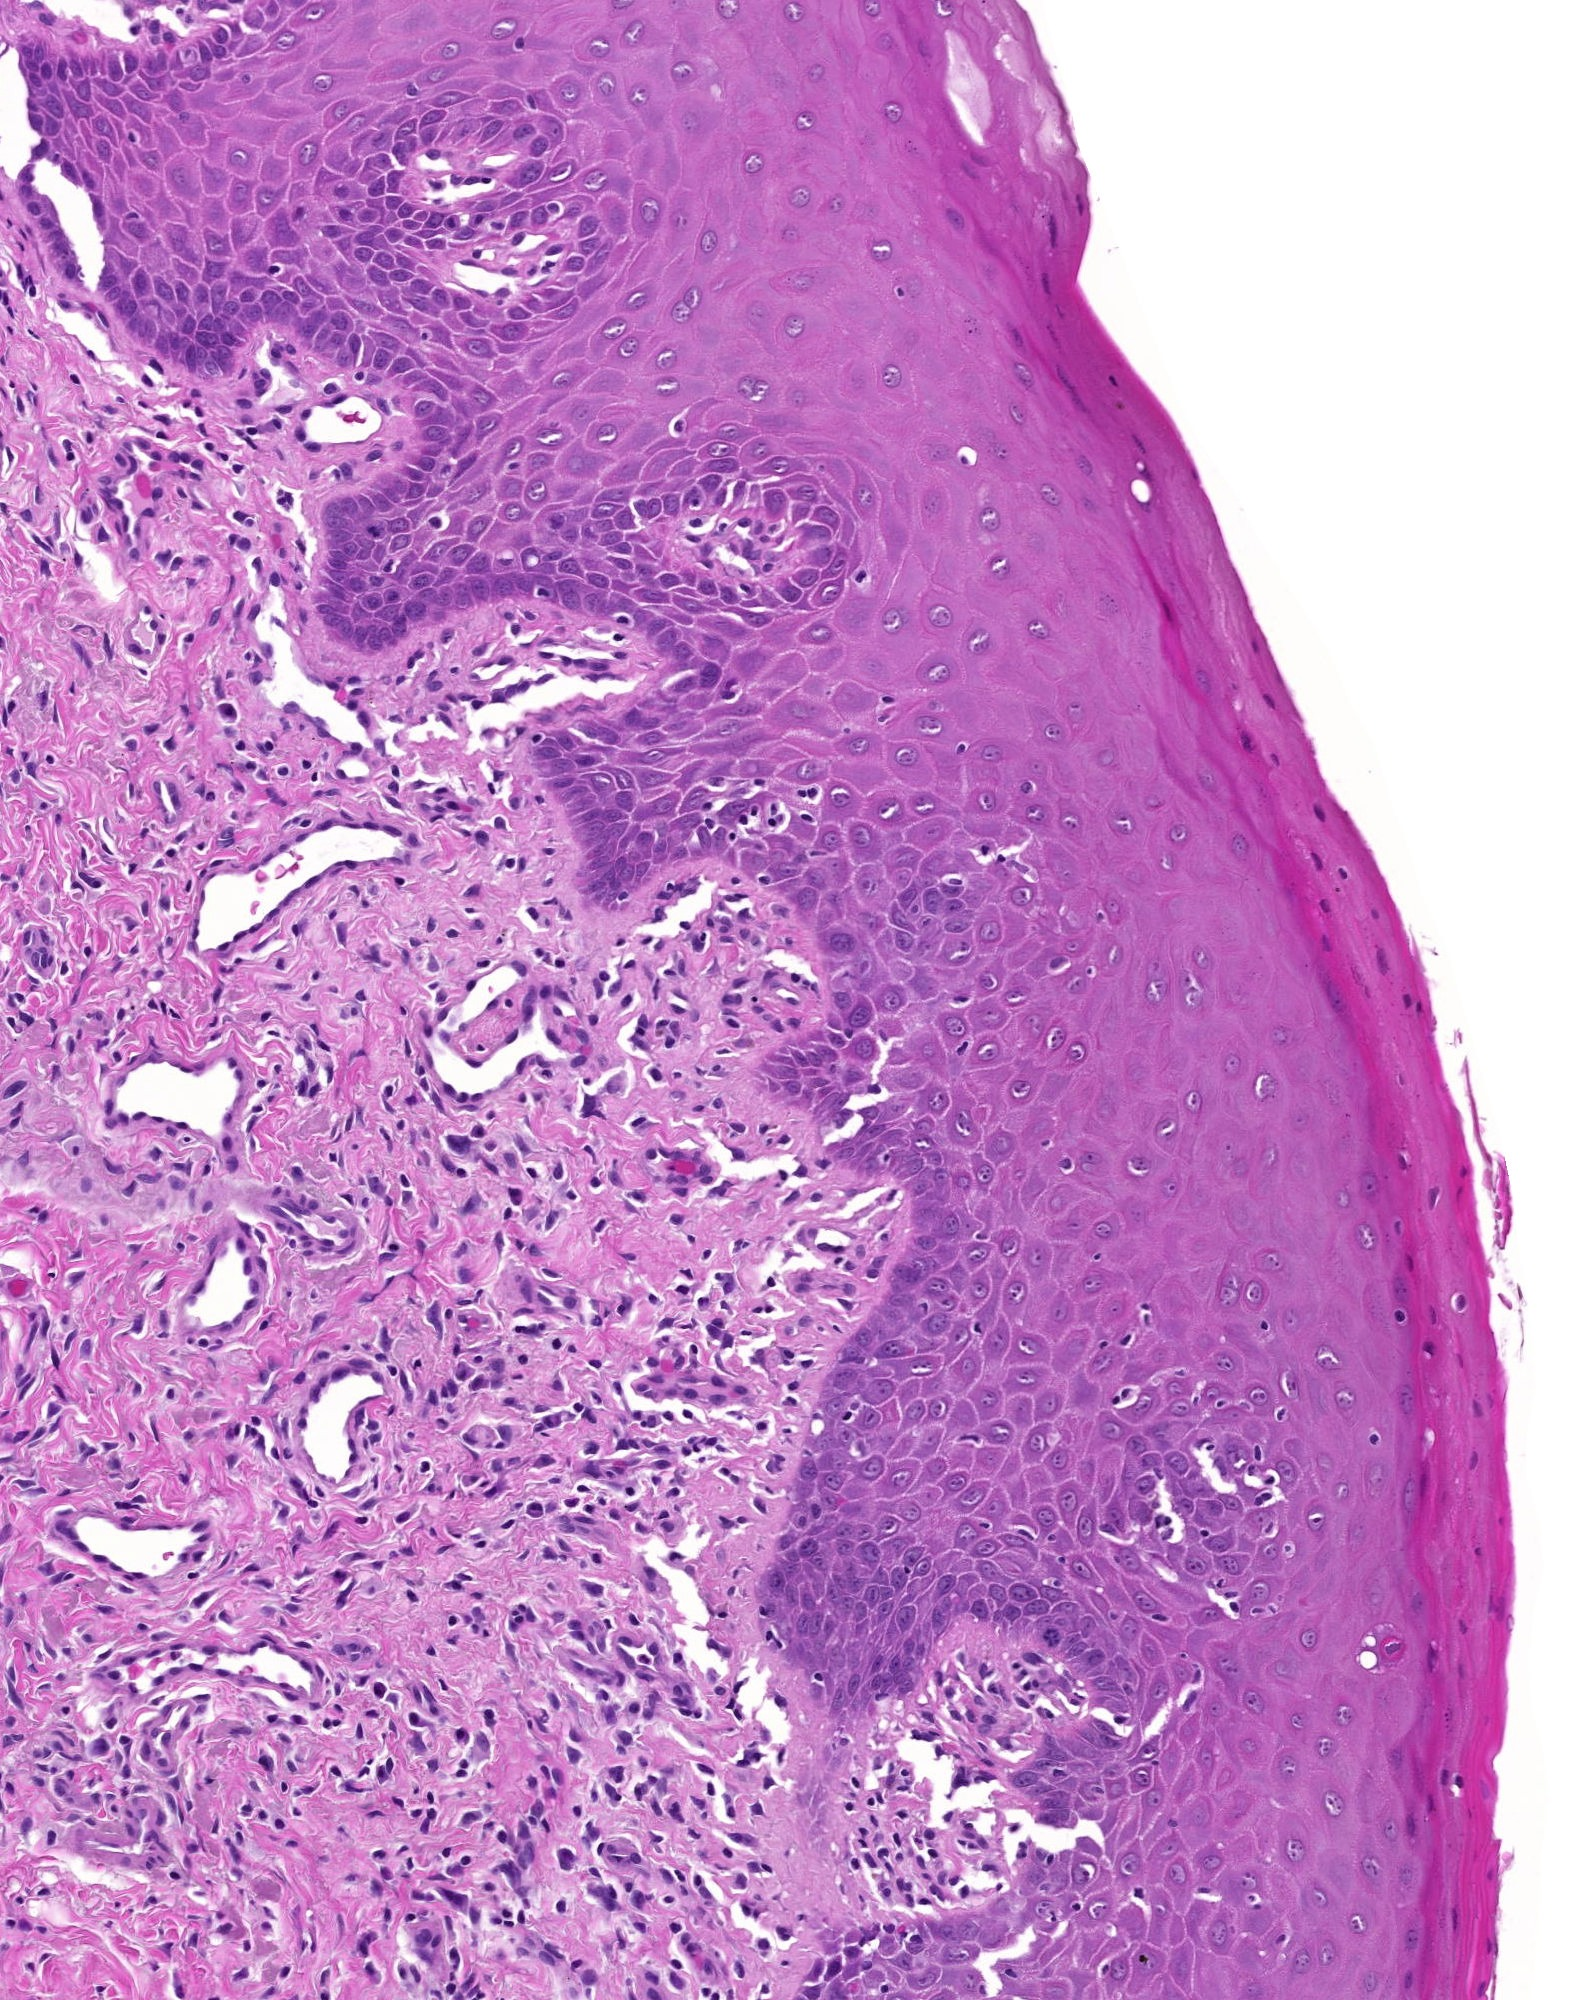epithelial: (553, 563, 588, 597), (404, 282, 437, 317), (398, 468, 432, 500), (37, 91, 71, 123), (325, 174, 357, 208), (372, 260, 406, 292), (402, 576, 435, 610), (368, 619, 402, 651), (321, 563, 354, 597), (514, 154, 547, 188), (828, 925, 862, 958), (617, 700, 649, 734), (537, 571, 571, 604), (782, 841, 816, 873), (626, 705, 661, 737), (946, 1102, 979, 1136), (842, 1331, 876, 1364), (920, 1602, 954, 1635), (534, 1937, 566, 1971), (876, 1659, 910, 1692), (771, 1554, 803, 1588), (860, 1576, 893, 1610), (1050, 364, 1083, 398), (1063, 386, 1095, 420), (1001, 1070, 1035, 1102), (993, 1956, 1027, 1989), (1092, 1511, 1126, 1544), (1143, 1599, 1177, 1631), (1014, 1584, 1047, 1619), (175, 339, 208, 372), (338, 328, 370, 360), (91, 261, 123, 294), (385, 349, 417, 381), (29, 54, 62, 86), (188, 321, 221, 354), (112, 291, 144, 323), (122, 214, 154, 247), (24, 131, 57, 164), (273, 281, 305, 313), (411, 448, 443, 481), (292, 312, 325, 344), (196, 252, 229, 284), (52, 153, 84, 185), (417, 203, 450, 235), (477, 110, 510, 143), (190, 37, 222, 70), (453, 445, 485, 477), (58, 52, 91, 84), (406, 269, 438, 302), (54, 253, 86, 286), (172, 308, 204, 341), (334, 196, 367, 229), (377, 218, 409, 250), (362, 260, 394, 292), (424, 279, 456, 312), (16, 91, 49, 123), (268, 216, 300, 248), (411, 115, 443, 148), (448, 419, 480, 451), (424, 401, 456, 433), (240, 242, 273, 274), (128, 313, 161, 346), (419, 417, 451, 450), (300, 300, 333, 333), (222, 219, 255, 252), (105, 50, 138, 83), (320, 323, 352, 356), (200, 227, 232, 260), (31, 84, 63, 117), (179, 315, 211, 347), (29, 208, 62, 240), (398, 594, 430, 627), (463, 549, 495, 581), (357, 620, 390, 653), (430, 558, 463, 591), (445, 536, 477, 568), (321, 576, 354, 609), (328, 537, 360, 570), (329, 612, 362, 644), (318, 602, 351, 635), (339, 534, 372, 567), (323, 518, 355, 550), (390, 589, 422, 622), (8, 1141, 41, 1174), (505, 115, 537, 148), (938, 201, 971, 234), (557, 247, 589, 279), (709, 448, 742, 481), (792, 477, 824, 510), (516, 83, 549, 115), (500, 203, 532, 235), (500, 305, 532, 338), (756, 479, 789, 511), (623, 282, 656, 315), (789, 102, 821, 135), (537, 112, 570, 144), (695, 656, 727, 688), (570, 744, 602, 776), (549, 726, 581, 758), (652, 563, 685, 596), (669, 667, 701, 700), (531, 735, 563, 768), (527, 575, 560, 607), (547, 766, 579, 799), (711, 675, 743, 708), (552, 550, 584, 583), (575, 800, 607, 833), (885, 919, 917, 951), (690, 820, 722, 852), (808, 537, 841, 570), (628, 554, 661, 586), (699, 765, 732, 797), (696, 625, 729, 657), (636, 580, 669, 612), (558, 747, 591, 779), (524, 731, 557, 763), (703, 820, 735, 852), (717, 795, 750, 828), (575, 714, 607, 747), (849, 867, 881, 899), (820, 922, 852, 955), (644, 831, 677, 864), (797, 864, 829, 896), (631, 761, 664, 794), (553, 516, 586, 549), (672, 805, 704, 838), (607, 589, 639, 622), (602, 529, 635, 562), (769, 856, 802, 888), (644, 570, 677, 602), (836, 1341, 868, 1373), (834, 1060, 867, 1093), (907, 1226, 940, 1258), (776, 1071, 808, 1104), (742, 1341, 774, 1373), (917, 1308, 949, 1341), (972, 1037, 1005, 1070), (964, 1268, 996, 1300), (919, 1391, 951, 1424), (839, 1003, 872, 1036), (803, 1067, 836, 1099), (962, 1226, 995, 1258), (962, 1593, 995, 1625), (818, 1951, 850, 1984), (855, 1536, 888, 1568), (894, 1542, 927, 1575), (849, 1920, 881, 1953), (872, 1506, 904, 1539), (888, 1945, 920, 1977), (828, 1529, 860, 1562), (891, 1550, 923, 1583), (969, 1508, 1001, 1541), (1029, 266, 1061, 299), (1097, 364, 1130, 396), (1121, 425, 1154, 458), (1053, 372, 1086, 404), (1230, 726, 1263, 758), (1152, 596, 1185, 628), (1040, 945, 1073, 977), (1019, 797, 1052, 830), (1240, 628, 1272, 661), (1303, 795, 1336, 828), (1009, 771, 1042, 804), (1105, 804, 1138, 836), (1037, 714, 1070, 747), (1019, 612, 1052, 644), (1394, 1245, 1427, 1278), (1277, 1367, 1310, 1399), (1073, 1141, 1105, 1174), (1128, 1471, 1160, 1503), (1386, 1144, 1418, 1177), (1141, 1416, 1173, 1448), (1204, 1450, 1237, 1482), (1407, 1463, 1440, 1495), (1389, 1380, 1422, 1412), (1060, 1037, 1092, 1070), (1216, 1433, 1248, 1466), (1131, 1445, 1164, 1477), (1159, 1448, 1191, 1481), (1461, 1391, 1493, 1424), (1264, 1451, 1297, 1484), (1394, 1808, 1427, 1841), (1078, 1641, 1110, 1674), (1032, 1802, 1065, 1834), (1126, 1942, 1159, 1974), (1008, 1761, 1040, 1794), (1415, 1787, 1448, 1820), (1006, 1578, 1039, 1610), (1131, 1732, 1164, 1765), (1042, 1756, 1074, 1789), (1177, 1549, 1209, 1581), (1066, 1859, 1099, 1891), (1034, 1731, 1066, 1763), (1198, 1490, 1230, 1523), (1027, 1505, 1060, 1537), (1037, 1787, 1070, 1820), (1128, 1497, 1160, 1529), (1190, 1518, 1222, 1550), (1238, 1683, 1271, 1716), (1204, 1528, 1237, 1560), (1376, 1631, 1409, 1664), (1001, 1588, 1034, 1620), (1040, 1740, 1073, 1773), (1087, 1714, 1120, 1747), (1018, 1755, 1050, 1787), (1444, 1654, 1477, 1687), (1037, 1573, 1070, 1606), (1212, 1654, 1245, 1687), (1092, 1805, 1125, 1838), (36, 110, 70, 141), (368, 244, 402, 274), (18, 71, 49, 106), (396, 71, 427, 106), (93, 71, 123, 106), (450, 580, 484, 610), (776, 576, 807, 610), (893, 878, 923, 912), (790, 562, 824, 593), (604, 877, 635, 911), (687, 810, 717, 844), (545, 748, 579, 779), (644, 619, 678, 649), (875, 795, 906, 830), (893, 1260, 927, 1291), (846, 997, 880, 1028), (820, 1023, 854, 1054), (867, 1372, 901, 1403), (777, 1050, 808, 1084), (854, 1141, 885, 1175), (1061, 1554, 1092, 1588), (1009, 1596, 1044, 1627), (1156, 1805, 1186, 1839), (125, 266, 156, 299), (19, 104, 50, 136), (325, 305, 355, 338), (213, 321, 243, 354), (360, 174, 393, 205), (18, 37, 50, 68), (115, 45, 146, 78), (157, 326, 190, 357), (166, 274, 196, 307), (204, 21, 235, 54), (253, 281, 284, 313), (204, 346, 235, 378), (187, 279, 217, 312), (19, 58, 52, 89), (443, 286, 476, 317), (99, 54, 130, 86), (385, 135, 415, 167), (230, 279, 261, 312), (349, 222, 381, 253), (385, 258, 415, 291), (415, 102, 446, 135), (140, 58, 170, 91), (24, 45, 57, 76), (316, 214, 347, 247), (239, 295, 269, 328), (420, 373, 453, 404), (140, 49, 172, 80), (351, 200, 383, 231), (377, 187, 409, 218), (377, 164, 409, 195), (63, 91, 94, 123), (16, 49, 49, 80), (146, 273, 179, 304), (45, 231, 76, 263), (193, 307, 224, 339), (214, 292, 247, 323), (469, 411, 501, 442), (68, 73, 99, 106), (110, 248, 141, 281), (386, 247, 419, 278), (67, 60, 97, 93), (206, 289, 237, 321), (135, 143, 166, 175), (162, 226, 195, 256), (406, 205, 438, 235), (196, 265, 227, 297), (203, 274, 234, 307), (182, 330, 213, 362), (467, 380, 498, 412), (222, 263, 255, 294), (359, 515, 390, 547), (357, 586, 388, 619), (377, 580, 409, 610), (404, 565, 435, 597), (321, 545, 354, 576), (383, 606, 415, 636), (342, 619, 375, 649), (339, 570, 372, 601), (463, 571, 495, 602), (312, 596, 344, 627), (380, 563, 411, 596), (368, 586, 399, 619), (459, 515, 492, 545), (380, 615, 411, 648), (365, 541, 398, 571), (281, 1193, 312, 1226), (523, 130, 553, 162), (695, 466, 725, 498), (571, 209, 604, 240), (508, 162, 540, 193), (678, 479, 709, 511), (722, 472, 755, 503), (524, 198, 557, 229), (735, 370, 768, 401), (549, 289, 581, 320), (956, 148, 988, 179), (600, 203, 633, 234), (907, 32, 938, 65), (690, 571, 722, 602), (540, 503, 571, 536), (609, 502, 639, 534), (641, 609, 672, 641), (583, 563, 613, 596), (609, 782, 639, 815), (605, 539, 636, 571), (824, 784, 855, 817), (667, 635, 698, 667), (742, 602, 773, 635), (579, 870, 610, 903), (505, 567, 537, 597), (914, 881, 946, 912), (553, 580, 586, 610), (936, 890, 967, 922), (971, 964, 1001, 997), (536, 541, 568, 571), (579, 586, 610, 619), (889, 744, 922, 774), (549, 570, 579, 602), (687, 666, 719, 696), (597, 865, 628, 898), (842, 821, 875, 852), (839, 727, 872, 758), (941, 911, 974, 942), (652, 623, 685, 654), (820, 883, 850, 916), (583, 769, 613, 802), (511, 536, 544, 567), (811, 498, 842, 531), (813, 825, 846, 856), (925, 877, 958, 907), (792, 1455, 824, 1485), (828, 1099, 859, 1131), (847, 1321, 878, 1354), (786, 1042, 816, 1075), (872, 1334, 904, 1365), (828, 1360, 860, 1391), (919, 1083, 949, 1115), (761, 1445, 792, 1477), (789, 1266, 820, 1299), (933, 1209, 966, 1240), (969, 1157, 1001, 1188), (824, 1084, 855, 1117), (854, 1450, 885, 1482), (940, 1256, 972, 1287), (906, 1119, 938, 1149), (829, 1133, 862, 1164), (961, 1237, 992, 1269), (923, 1157, 954, 1190), (910, 1196, 943, 1227), (773, 1062, 805, 1093), (901, 1394, 933, 1425), (790, 1532, 823, 1563), (863, 1667, 894, 1700), (763, 1562, 794, 1594), (901, 1924, 933, 1955), (798, 1494, 831, 1524), (932, 1567, 962, 1599), (750, 1594, 781, 1627), (860, 1648, 893, 1679), (889, 1601, 920, 1633), (837, 1666, 868, 1698), (802, 1661, 834, 1692), (497, 1854, 527, 1886), (769, 1526, 802, 1557), (927, 1916, 959, 1946), (828, 1515, 859, 1547), (790, 1584, 823, 1615), (811, 1610, 842, 1643), (821, 1685, 854, 1716), (837, 1565, 868, 1597), (889, 1669, 920, 1701), (776, 1545, 807, 1578), (781, 1537, 811, 1570), (802, 1544, 833, 1576), (964, 1536, 996, 1567), (844, 1596, 876, 1627), (1035, 214, 1068, 245), (1130, 458, 1162, 489), (1065, 188, 1095, 221), (1000, 320, 1032, 351), (1177, 459, 1207, 492), (1060, 378, 1091, 411), (1070, 448, 1100, 481), (1100, 378, 1131, 411), (1162, 817, 1194, 847), (1308, 890, 1341, 920), (1188, 662, 1219, 695), (1053, 808, 1086, 839), (1383, 1300, 1415, 1331), (1414, 1331, 1444, 1364), (1118, 1429, 1151, 1459), (1125, 1146, 1156, 1179), (1383, 1273, 1415, 1304), (1417, 1179, 1448, 1211), (1209, 1347, 1242, 1378), (1091, 1214, 1121, 1247), (1190, 1425, 1220, 1458), (1068, 1375, 1099, 1407), (1243, 1380, 1274, 1412), (1040, 1023, 1073, 1054), (1092, 1414, 1125, 1445), (1040, 1443, 1073, 1474), (1034, 1622, 1066, 1653), (1415, 1640, 1448, 1670), (995, 1596, 1027, 1627), (1396, 1922, 1427, 1955), (1381, 1740, 1412, 1773), (1091, 1724, 1123, 1755), (1126, 1763, 1157, 1795), (1392, 1964, 1423, 1997), (1401, 1588, 1433, 1619), (1438, 1901, 1470, 1932), (1193, 1843, 1225, 1873), (1092, 1955, 1125, 1985), (1048, 1666, 1079, 1698), (1099, 1502, 1130, 1534), (1194, 1597, 1227, 1628), (1302, 1505, 1332, 1537), (1108, 1541, 1141, 1571), (1173, 1683, 1206, 1714), (1044, 1794, 1074, 1826), (1035, 1747, 1066, 1779), (1006, 1519, 1039, 1550), (1143, 1672, 1173, 1705), (1019, 1860, 1052, 1891), (1264, 1922, 1297, 1953), (1169, 1489, 1199, 1521), (1212, 1549, 1245, 1580), (1068, 1828, 1100, 1859), (1071, 1609, 1104, 1640), (1326, 1700, 1358, 1731), (1281, 1705, 1313, 1735), (1091, 1667, 1121, 1700), (1354, 1852, 1384, 1885), (1026, 1773, 1057, 1805), (1105, 1649, 1138, 1680), (1112, 1674, 1143, 1706), (45, 55, 76, 86), (365, 343, 396, 373), (390, 195, 420, 226), (407, 393, 438, 424), (364, 123, 394, 154), (88, 135, 118, 166), (346, 239, 377, 269), (123, 308, 154, 339), (203, 32, 234, 63), (282, 196, 313, 227), (420, 226, 451, 256), (149, 330, 180, 360), (367, 144, 398, 175), (467, 333, 498, 364), (213, 821, 243, 852), (383, 510, 414, 541), (758, 450, 789, 481), (628, 821, 659, 852), (936, 873, 967, 904), (712, 580, 743, 610), (798, 515, 829, 545), (789, 881, 820, 912), (906, 786, 936, 817), (734, 644, 764, 675), (596, 721, 626, 752), (974, 786, 1005, 817), (605, 847, 636, 878), (868, 791, 899, 821), (596, 800, 626, 831), (904, 968, 935, 998), (698, 795, 729, 826), (651, 791, 682, 821), (854, 1114, 885, 1144), (854, 1097, 885, 1128), (854, 1403, 885, 1433), (803, 1041, 834, 1071), (938, 1468, 969, 1498), (849, 1032, 880, 1063), (876, 1120, 907, 1151), (815, 1463, 846, 1494), (974, 1381, 1005, 1412), (922, 1269, 953, 1300), (880, 1649, 910, 1680), (896, 1631, 927, 1662), (885, 1562, 915, 1593), (850, 1950, 881, 1981), (789, 1609, 820, 1640), (1104, 390, 1134, 420), (1009, 364, 1040, 394), (1367, 945, 1397, 976), (1310, 929, 1341, 959), (1224, 828, 1255, 859), (1253, 683, 1284, 714), (1302, 846, 1332, 877), (1005, 878, 1035, 909), (1315, 972, 1345, 1003), (1000, 976, 1031, 1006), (1354, 1170, 1384, 1201), (1417, 1299, 1448, 1330), (1013, 1326, 1044, 1357), (1310, 1732, 1341, 1763), (1060, 1635, 1091, 1666), (1070, 1506, 1100, 1537), (1389, 1859, 1420, 1890), (1293, 1622, 1324, 1653), (1125, 1584, 1156, 1615), (1134, 1636, 1165, 1667)
fibroblast and endothelial: (425, 792, 459, 826), (50, 1308, 84, 1343), (709, 1455, 743, 1489), (868, 1873, 902, 1907), (140, 347, 172, 381), (227, 386, 261, 419), (467, 162, 501, 195), (417, 136, 450, 170), (41, 442, 75, 474), (247, 359, 281, 391), (169, 477, 201, 511), (226, 526, 260, 558), (318, 667, 352, 700), (339, 731, 372, 765), (399, 641, 432, 675), (115, 851, 148, 885), (28, 933, 62, 966), (428, 703, 463, 735), (454, 875, 489, 907), (89, 628, 123, 661), (170, 869, 203, 903), (114, 911, 148, 943), (362, 701, 396, 734), (222, 1414, 255, 1448), (372, 1075, 404, 1109), (432, 1071, 464, 1106), (438, 1333, 472, 1365), (36, 1391, 68, 1425), (388, 1166, 420, 1200), (71, 1435, 105, 1468), (54, 1323, 88, 1356), (153, 1377, 185, 1411), (372, 1183, 404, 1218), (291, 1058, 323, 1093), (297, 1378, 331, 1411), (217, 1424, 250, 1458), (446, 1258, 480, 1291), (373, 1393, 407, 1425), (260, 1195, 294, 1227), (39, 1307, 73, 1339), (454, 1154, 489, 1187), (467, 1122, 501, 1154), (183, 1583, 217, 1615), (394, 1956, 428, 1989), (394, 1580, 427, 1614), (248, 1628, 282, 1661), (428, 1834, 463, 1867), (432, 1906, 466, 1938), (461, 1899, 495, 1932), (351, 1920, 383, 1955), (159, 1631, 192, 1666), (159, 1765, 192, 1799), (299, 1653, 333, 1685), (183, 1680, 217, 1713), (346, 1633, 380, 1666), (396, 1714, 430, 1747), (140, 1674, 172, 1708), (446, 1899, 480, 1932), (435, 1843, 467, 1877), (276, 1589, 308, 1623), (115, 1731, 149, 1763), (157, 1795, 192, 1828), (234, 1778, 268, 1810), (514, 253, 549, 286), (844, 558, 876, 593), (669, 907, 703, 940), (529, 661, 562, 695), (789, 786, 821, 820), (537, 1156, 571, 1188), (786, 1180, 820, 1213), (695, 1425, 729, 1458), (706, 1317, 738, 1351), (625, 1006, 657, 1041), (571, 1133, 605, 1166), (773, 1006, 805, 1041), (630, 1028, 664, 1060), (722, 1227, 756, 1260), (670, 1310, 704, 1343), (626, 1425, 659, 1459), (531, 1268, 565, 1300), (524, 1411, 557, 1445), (529, 1286, 562, 1320), (586, 1458, 620, 1490), (540, 1284, 575, 1317), (648, 1323, 682, 1356), (635, 1961, 669, 1994), (639, 1791, 672, 1825), (505, 1601, 537, 1635), (510, 1812, 542, 1846), (549, 1841, 581, 1875), (657, 1859, 691, 1891), (661, 1641, 695, 1674), (839, 1765, 872, 1799), (967, 1654, 1001, 1687), (651, 1864, 683, 1898), (724, 1951, 756, 1985), (639, 1823, 674, 1856), (652, 1636, 687, 1669), (568, 1619, 600, 1653), (868, 1864, 901, 1898), (639, 1641, 674, 1674), (674, 1948, 708, 1981), (536, 1490, 570, 1523), (235, 427, 268, 459), (54, 438, 86, 471), (284, 417, 316, 450), (235, 414, 268, 446), (13, 268, 45, 300), (297, 430, 329, 463), (268, 391, 300, 424), (73, 420, 105, 453), (289, 398, 321, 430), (58, 362, 91, 394), (140, 477, 172, 510), (222, 451, 255, 484), (131, 433, 164, 466), (357, 440, 390, 472), (420, 169, 453, 201), (269, 479, 302, 511), (29, 2, 62, 34), (71, 162, 104, 195), (328, 456, 360, 489), (164, 471, 196, 503), (50, 429, 83, 461), (104, 443, 136, 476), (213, 15, 245, 47), (156, 476, 188, 508), (291, 425, 323, 458), (227, 419, 260, 451), (11, 381, 44, 414), (11, 170, 44, 203), (333, 847, 365, 880), (354, 808, 386, 841), (347, 701, 380, 734), (338, 666, 370, 698), (281, 912, 313, 945), (334, 688, 367, 721), (425, 774, 458, 807), (15, 752, 47, 784), (383, 865, 415, 898), (190, 778, 222, 810), (28, 544, 60, 576), (148, 886, 180, 919), (377, 774, 409, 807), (419, 505, 451, 537), (32, 742, 65, 774), (240, 661, 273, 693), (153, 727, 185, 760), (70, 498, 102, 531), (377, 786, 409, 818), (120, 631, 153, 664), (222, 769, 255, 802), (364, 727, 396, 760), (60, 869, 93, 901), (208, 930, 240, 963), (201, 976, 234, 1008), (67, 849, 99, 881), (461, 907, 493, 940), (430, 619, 463, 651), (185, 544, 217, 576), (258, 779, 291, 812), (325, 917, 357, 950), (414, 909, 446, 942), (23, 740, 55, 773), (10, 740, 42, 773), (420, 800, 453, 833), (239, 641, 271, 674), (128, 891, 161, 924), (310, 776, 342, 808), (29, 945, 62, 977), (130, 539, 162, 571), (201, 672, 234, 705), (386, 769, 419, 802), (164, 820, 196, 852), (325, 805, 357, 838), (19, 919, 52, 951), (198, 601, 230, 633), (266, 890, 299, 922), (299, 805, 331, 838), (424, 976, 456, 1008), (472, 714, 505, 747), (412, 771, 445, 804), (42, 800, 75, 833), (390, 938, 422, 971), (334, 807, 367, 839), (16, 964, 49, 997), (68, 948, 101, 981), (300, 771, 333, 804), (274, 828, 307, 860), (323, 854, 355, 886), (89, 833, 122, 865), (10, 1003, 42, 1036), (438, 1153, 471, 1185), (122, 1099, 154, 1131), (39, 1343, 71, 1375), (292, 1073, 325, 1106), (321, 1357, 354, 1390), (463, 1365, 495, 1398), (23, 1417, 55, 1450), (474, 1151, 506, 1183), (245, 1247, 278, 1279), (248, 998, 281, 1031), (105, 1102, 138, 1135), (24, 1198, 57, 1231), (266, 1437, 299, 1469), (232, 1213, 265, 1245), (313, 1055, 346, 1088), (286, 1406, 318, 1438), (355, 1420, 388, 1453), (140, 1136, 172, 1169), (368, 1323, 401, 1356), (93, 1430, 125, 1463), (230, 1248, 263, 1281), (420, 1305, 453, 1338), (360, 1360, 393, 1393), (182, 1271, 214, 1304), (240, 1404, 273, 1437), (281, 1156, 313, 1188), (97, 1446, 130, 1479), (316, 1141, 349, 1174), (294, 1049, 326, 1081), (122, 1307, 154, 1339), (390, 1180, 422, 1213), (247, 1359, 279, 1391), (407, 1067, 440, 1099), (294, 1188, 326, 1221), (334, 1104, 367, 1136), (105, 997, 138, 1029), (459, 1080, 492, 1112), (55, 1028, 88, 1060), (391, 1032, 424, 1065), (372, 1253, 404, 1286), (430, 1398, 463, 1430), (37, 1409, 70, 1442), (39, 1055, 71, 1088), (300, 1227, 333, 1260), (172, 1419, 204, 1451), (58, 1133, 91, 1166), (477, 1365, 510, 1398), (120, 1372, 153, 1404), (60, 1237, 93, 1269), (370, 1239, 402, 1271), (422, 1068, 454, 1101), (130, 1161, 162, 1193), (70, 1328, 102, 1360), (346, 1390, 378, 1422), (342, 1037, 375, 1070), (433, 1385, 466, 1417), (260, 1174, 292, 1206), (8, 1468, 41, 1500), (437, 1122, 469, 1154), (273, 1211, 305, 1244), (469, 1143, 501, 1175), (286, 1067, 318, 1099), (136, 1041, 169, 1073), (313, 1201, 346, 1234), (0, 1003, 32, 1036), (122, 1042, 154, 1075), (115, 1420, 148, 1453), (386, 994, 419, 1026), (182, 1050, 214, 1083), (355, 1333, 388, 1365), (39, 1260, 71, 1292), (83, 1433, 115, 1466), (381, 1451, 414, 1484), (359, 1466, 391, 1498), (440, 1883, 472, 1916), (347, 1930, 380, 1963), (315, 1706, 347, 1739), (96, 1657, 128, 1690), (393, 1899, 425, 1932), (398, 1701, 430, 1734), (445, 1753, 477, 1786), (63, 1529, 96, 1562), (412, 1804, 445, 1836), (334, 1771, 367, 1804), (84, 1731, 117, 1763), (321, 1558, 354, 1591), (206, 1656, 239, 1688), (355, 1696, 388, 1729), (341, 1539, 373, 1571), (415, 1748, 448, 1781), (370, 1898, 402, 1930), (219, 1838, 252, 1870), (401, 1726, 433, 1758), (143, 1662, 175, 1695), (459, 1586, 492, 1619), (6, 1907, 39, 1940), (268, 1769, 300, 1802), (248, 1567, 281, 1599), (169, 1792, 201, 1825), (208, 1912, 240, 1945), (91, 1545, 123, 1578), (402, 1677, 435, 1709), (219, 1826, 252, 1859), (169, 1706, 201, 1739), (315, 1513, 347, 1545), (274, 1679, 307, 1711), (222, 1714, 255, 1747), (136, 1636, 169, 1669), (149, 1722, 182, 1755), (157, 1654, 190, 1687), (393, 1846, 425, 1878), (381, 1786, 414, 1818), (438, 1852, 471, 1885), (472, 1808, 505, 1841), (47, 1513, 80, 1545), (170, 1542, 203, 1575), (151, 1930, 183, 1963), (224, 1820, 256, 1852), (177, 1831, 209, 1864), (3, 1885, 36, 1917), (140, 1620, 172, 1653), (372, 1747, 404, 1779), (26, 1912, 58, 1945), (45, 1635, 78, 1667), (44, 1771, 76, 1804), (276, 1690, 308, 1722), (346, 1755, 378, 1787), (459, 1602, 492, 1635), (109, 1571, 141, 1604), (148, 1692, 180, 1724), (407, 1810, 440, 1843), (479, 1904, 511, 1937), (208, 1542, 240, 1575), (16, 1948, 49, 1981), (274, 1826, 307, 1859), (109, 1555, 141, 1588), (291, 1929, 323, 1961), (140, 1813, 172, 1846), (402, 1890, 435, 1922), (89, 1781, 122, 1813), (441, 1870, 474, 1903), (386, 1706, 419, 1739), (114, 1813, 146, 1846), (357, 1687, 390, 1719), (243, 1662, 276, 1695), (662, 409, 695, 442), (536, 190, 568, 222), (721, 880, 753, 912), (682, 925, 714, 958), (505, 714, 537, 747), (696, 906, 729, 938), (602, 971, 635, 1003), (545, 643, 578, 675), (524, 937, 557, 969), (503, 951, 536, 984), (725, 802, 758, 834), (657, 955, 690, 987), (498, 786, 531, 818), (730, 571, 763, 604), (732, 534, 764, 567), (727, 917, 760, 950), (532, 834, 565, 867), (596, 964, 628, 997), (742, 513, 774, 545), (639, 971, 672, 1003), (690, 537, 722, 570), (534, 885, 566, 917), (711, 883, 743, 916), (756, 792, 789, 825), (527, 627, 560, 659), (755, 515, 787, 547), (513, 1313, 545, 1346), (573, 1399, 605, 1432), (623, 1018, 656, 1050), (537, 1021, 570, 1054), (820, 1232, 852, 1265), (699, 1308, 732, 1341), (571, 1089, 604, 1122), (652, 1024, 685, 1057), (607, 1291, 639, 1323), (646, 1448, 678, 1481), (531, 1406, 563, 1438), (721, 1110, 753, 1143), (505, 1341, 537, 1373), (701, 1365, 734, 1398), (516, 1156, 549, 1188), (644, 1403, 677, 1435), (623, 1401, 656, 1433), (711, 1325, 743, 1357), (581, 1304, 613, 1336), (633, 1406, 665, 1438), (635, 1010, 667, 1042), (622, 1106, 654, 1138), (745, 1409, 777, 1442), (534, 1203, 566, 1235), (514, 995, 547, 1028), (709, 1265, 742, 1297), (523, 1312, 555, 1344), (753, 1339, 786, 1372), (808, 1231, 841, 1263), (748, 1112, 781, 1144), (506, 1130, 539, 1162), (672, 1256, 704, 1289), (526, 1049, 558, 1081), (664, 1140, 696, 1172), (829, 1287, 862, 1320), (635, 1346, 667, 1378), (639, 1362, 672, 1394), (761, 1010, 794, 1042), (523, 1393, 555, 1425), (695, 1169, 727, 1201), (505, 1081, 537, 1114), (722, 1122, 755, 1154), (578, 1096, 610, 1128), (821, 1242, 854, 1274), (857, 1255, 889, 1287), (497, 1141, 529, 1174), (571, 1010, 604, 1042), (579, 1380, 612, 1412), (612, 1240, 644, 1273), (675, 1222, 708, 1255), (644, 1370, 677, 1403), (636, 1429, 669, 1461), (626, 1386, 659, 1419), (677, 1141, 709, 1174), (597, 1779, 630, 1812), (717, 1693, 750, 1726), (682, 1865, 714, 1898), (600, 1758, 633, 1791), (698, 1628, 730, 1661), (729, 1744, 761, 1776), (839, 1847, 872, 1880), (579, 1542, 612, 1575), (622, 1774, 654, 1807), (635, 1635, 667, 1667), (659, 1792, 691, 1825), (915, 1830, 948, 1862), (967, 1760, 1000, 1792), (659, 1539, 691, 1571), (747, 1851, 779, 1883), (657, 1963, 690, 1995), (661, 1946, 693, 1979), (630, 1883, 662, 1916), (544, 1890, 576, 1922), (948, 1872, 980, 1904), (912, 1700, 945, 1732), (578, 1573, 610, 1606), (920, 1875, 953, 1907), (618, 1692, 651, 1724), (620, 1878, 652, 1911), (907, 1885, 940, 1917), (505, 1901, 537, 1933), (751, 1766, 784, 1799), (628, 1659, 661, 1692), (588, 1679, 620, 1711), (724, 1864, 756, 1896), (635, 1558, 667, 1591), (575, 1963, 607, 1995), (532, 1537, 565, 1570), (615, 1843, 648, 1875), (881, 1821, 914, 1854), (670, 1925, 703, 1958), (610, 1623, 643, 1656), (648, 1500, 680, 1532), (618, 1602, 651, 1635), (609, 1721, 641, 1753), (560, 1612, 592, 1644), (932, 1795, 964, 1828), (893, 1883, 925, 1916), (859, 1784, 891, 1817), (510, 1828, 542, 1860), (873, 1912, 906, 1945), (972, 1703, 1005, 1735), (688, 1875, 721, 1907), (951, 1810, 984, 1843), (938, 1865, 971, 1898), (539, 1685, 571, 1718), (604, 1925, 636, 1958), (743, 1489, 776, 1521), (691, 1950, 724, 1982), (914, 1817, 946, 1849), (570, 1654, 602, 1687), (636, 1680, 669, 1713), (724, 1505, 756, 1537), (631, 1696, 664, 1729), (964, 1826, 996, 1859), (652, 1883, 685, 1916), (547, 1529, 579, 1562), (565, 1490, 597, 1523), (844, 1838, 876, 1870), (581, 1628, 613, 1661), (565, 1955, 597, 1987), (524, 1705, 557, 1737), (578, 1856, 610, 1888), (665, 1916, 698, 1948), (600, 1843, 633, 1875), (795, 1964, 828, 1997), (565, 1503, 597, 1536), (586, 1492, 618, 1524), (511, 1839, 544, 1872), (974, 1674, 1006, 1706), (498, 1828, 531, 1860), (906, 1851, 938, 1883), (545, 1601, 578, 1633), (868, 1851, 901, 1883), (1444, 1286, 1477, 1318), (1050, 1148, 1083, 1180), (1014, 1641, 1047, 1674), (1005, 1654, 1037, 1687), (1032, 1698, 1065, 1731), (1433, 1760, 1466, 1792), (5, 256, 36, 291), (435, 205, 466, 239), (19, 140, 50, 174), (437, 917, 467, 951), (71, 933, 102, 968), (341, 675, 372, 709), (109, 506, 140, 541), (115, 727, 146, 761), (338, 860, 368, 894), (221, 929, 252, 963), (274, 692, 308, 722), (131, 593, 162, 627), (342, 881, 377, 912), (381, 852, 412, 886), (385, 844, 419, 875), (240, 596, 274, 627), (170, 542, 204, 573), (445, 1127, 476, 1161), (28, 1005, 62, 1036), (477, 1459, 508, 1494), (37, 1016, 68, 1050), (118, 1231, 149, 1265), (347, 1187, 381, 1218), (42, 1028, 76, 1058), (334, 1356, 368, 1386), (355, 1756, 390, 1787), (179, 1541, 213, 1571), (248, 1747, 282, 1778), (110, 1503, 141, 1537), (192, 1765, 226, 1795), (135, 1885, 169, 1916), (71, 1622, 105, 1653), (453, 1963, 484, 1997), (407, 1700, 441, 1731), (149, 1709, 180, 1744), (49, 1727, 80, 1761), (721, 968, 755, 998), (613, 1429, 648, 1459), (636, 1136, 667, 1170), (505, 1049, 536, 1083), (553, 1286, 588, 1317), (605, 1372, 639, 1403), (708, 1289, 742, 1320), (604, 1445, 635, 1479), (946, 1029, 977, 1063), (764, 1683, 795, 1718), (612, 1779, 646, 1810), (560, 1946, 591, 1981), (768, 1916, 798, 1950), (584, 1833, 618, 1864), (623, 1511, 657, 1542), (600, 1877, 635, 1907), (800, 1955, 831, 1989), (596, 1834, 626, 1869), (962, 1701, 996, 1732), (514, 1804, 549, 1834), (498, 1606, 529, 1640), (652, 1683, 687, 1714), (583, 1821, 617, 1852), (1105, 1325, 1139, 1356), (1005, 1687, 1039, 1718), (1005, 1833, 1039, 1864), (1018, 1838, 1052, 1869), (321, 385, 354, 416), (454, 164, 487, 195), (148, 403, 179, 435), (318, 375, 351, 406), (131, 364, 162, 396), (182, 448, 213, 481), (118, 11, 149, 44), (11, 159, 42, 192), (3, 390, 36, 420), (459, 239, 492, 269), (445, 164, 476, 196), (261, 336, 292, 369), (204, 438, 235, 471), (174, 459, 206, 490), (243, 367, 276, 398), (463, 201, 493, 234), (153, 21, 183, 54), (131, 11, 164, 42), (49, 287, 80, 320), (81, 192, 114, 222), (60, 291, 93, 321), (271, 333, 303, 364), (91, 472, 123, 503), (75, 338, 107, 369), (141, 429, 174, 459), (187, 412, 217, 445), (166, 453, 196, 485), (441, 211, 472, 244), (146, 15, 179, 45), (23, 477, 54, 510), (18, 192, 50, 222), (71, 291, 102, 323), (70, 869, 102, 899), (153, 542, 185, 573), (295, 865, 326, 898), (459, 688, 492, 719), (437, 791, 469, 821), (310, 808, 342, 839), (214, 695, 247, 726), (380, 761, 411, 794), (224, 500, 255, 532), (222, 920, 255, 951), (377, 813, 407, 846), (226, 729, 256, 761), (454, 968, 485, 1000), (86, 518, 117, 550), (135, 713, 166, 745), (239, 912, 269, 945), (260, 563, 291, 596), (252, 731, 284, 761), (364, 812, 396, 843), (445, 683, 477, 714), (467, 946, 498, 979), (62, 542, 93, 575), (286, 529, 316, 562), (200, 847, 232, 878), (230, 596, 263, 627), (287, 808, 320, 839), (23, 526, 55, 557), (217, 523, 248, 555), (174, 622, 204, 654), (149, 622, 182, 653), (161, 545, 192, 578), (179, 917, 211, 948), (273, 883, 303, 916), (325, 756, 355, 789), (265, 946, 295, 979), (133, 497, 166, 528), (398, 823, 428, 856), (307, 714, 338, 747), (357, 940, 390, 971), (140, 610, 172, 641), (28, 680, 58, 713), (243, 929, 274, 961), (339, 873, 372, 904), (118, 537, 149, 570), (144, 773, 177, 804), (67, 838, 99, 869), (247, 636, 279, 667), (300, 958, 331, 990), (3, 977, 36, 1008), (480, 680, 511, 713), (10, 920, 42, 951), (344, 977, 377, 1008), (419, 667, 450, 700), (390, 820, 420, 852), (169, 695, 201, 726), (316, 898, 347, 930), (28, 789, 58, 821), (209, 953, 240, 985), (96, 515, 127, 547), (2, 758, 32, 791), (243, 755, 274, 787), (188, 856, 221, 886), (453, 817, 484, 849), (67, 636, 97, 669), (222, 593, 253, 625), (480, 807, 511, 839), (174, 567, 206, 597), (287, 599, 318, 631), (221, 946, 253, 977), (380, 701, 411, 734), (252, 904, 282, 937), (143, 958, 175, 989), (153, 925, 185, 956), (281, 877, 313, 907), (388, 1364, 419, 1396), (117, 1469, 148, 1502), (235, 1416, 268, 1446), (10, 1419, 42, 1450), (433, 1373, 466, 1404), (62, 1256, 93, 1289), (164, 1110, 196, 1141), (420, 1084, 453, 1115), (446, 1083, 479, 1114), (213, 1120, 243, 1153), (377, 1232, 407, 1265), (248, 1308, 281, 1339), (29, 1310, 60, 1343), (357, 1411, 390, 1442), (415, 1381, 448, 1412), (234, 1287, 265, 1320), (187, 1326, 217, 1359), (409, 1450, 441, 1481), (458, 1047, 490, 1078), (216, 1148, 248, 1179), (141, 1104, 174, 1135), (303, 1029, 336, 1060), (226, 1227, 256, 1260), (44, 1377, 76, 1407), (451, 1352, 484, 1383), (114, 1174, 144, 1206), (333, 1180, 364, 1213), (338, 1438, 368, 1471), (214, 1445, 247, 1476), (170, 1054, 203, 1084), (312, 1227, 342, 1260), (307, 1339, 338, 1372), (446, 1286, 479, 1317), (190, 1153, 222, 1183), (159, 998, 192, 1029), (219, 1050, 250, 1083), (93, 1097, 125, 1128), (412, 1015, 445, 1045), (359, 1167, 390, 1200), (235, 1110, 266, 1143), (425, 1407, 458, 1438), (243, 1221, 276, 1252), (453, 1190, 484, 1222), (239, 1269, 269, 1302), (222, 1058, 255, 1089), (148, 1304, 179, 1336), (144, 1266, 175, 1299), (446, 1359, 479, 1390), (342, 1349, 375, 1380), (453, 1422, 484, 1455), (476, 1471, 506, 1503), (445, 1302, 477, 1333), (237, 1101, 269, 1131), (302, 1304, 333, 1336), (213, 1138, 243, 1170), (373, 1265, 406, 1295), (289, 1226, 321, 1256), (213, 1104, 243, 1136), (415, 1471, 446, 1503), (456, 1463, 489, 1494), (209, 1310, 240, 1343), (2, 1084, 34, 1115), (240, 1093, 273, 1123), (8, 1369, 39, 1401), (198, 1011, 230, 1042), (179, 1149, 211, 1180), (235, 1261, 268, 1292), (274, 1411, 307, 1442), (349, 1429, 381, 1459), (19, 1315, 52, 1346), (81, 998, 112, 1031), (146, 992, 179, 1023), (480, 1347, 511, 1380), (352, 1282, 385, 1313), (463, 1278, 493, 1310), (404, 1231, 437, 1261), (161, 1167, 192, 1200), (255, 1433, 286, 1466), (190, 1190, 222, 1221), (458, 1123, 490, 1154), (291, 1029, 323, 1060), (253, 1372, 284, 1404), (195, 1250, 226, 1282), (480, 1450, 511, 1482), (419, 1295, 451, 1326), (45, 1333, 76, 1365), (217, 1305, 248, 1338), (253, 1083, 286, 1114), (255, 1011, 287, 1042), (354, 1347, 386, 1378), (136, 1028, 169, 1058), (326, 1581, 357, 1614), (368, 1753, 399, 1786), (109, 1489, 140, 1521), (441, 1567, 472, 1599), (180, 1649, 211, 1682), (183, 1510, 214, 1542), (472, 1700, 505, 1731), (195, 1635, 227, 1666), (364, 1838, 394, 1870), (84, 1542, 115, 1575), (354, 1953, 385, 1985), (438, 1938, 469, 1971), (320, 1755, 351, 1787), (402, 1878, 433, 1911), (432, 1878, 464, 1909), (419, 1924, 450, 1956), (286, 1628, 318, 1659), (414, 1682, 445, 1714), (411, 1919, 441, 1951), (289, 1649, 321, 1680), (235, 1552, 268, 1583), (368, 1857, 401, 1888), (454, 1800, 485, 1833), (360, 1872, 393, 1903), (28, 1875, 58, 1907), (54, 1519, 86, 1550), (472, 1872, 505, 1903), (256, 1703, 287, 1735), (89, 1638, 120, 1670), (464, 1528, 497, 1558), (417, 1693, 450, 1724), (230, 1792, 261, 1825), (448, 1844, 479, 1877), (435, 1969, 467, 2000), (149, 1636, 182, 1667), (294, 1773, 325, 1805), (144, 1802, 175, 1834), (414, 1635, 446, 1666), (308, 1961, 339, 1994), (342, 1714, 373, 1747), (412, 1932, 443, 1964), (333, 1633, 364, 1666), (281, 1705, 313, 1735), (240, 1631, 273, 1662), (391, 1536, 424, 1567), (89, 1593, 120, 1625), (131, 1731, 162, 1763), (359, 1797, 390, 1830), (253, 1804, 284, 1836), (146, 1511, 179, 1542), (347, 1662, 378, 1695), (198, 1812, 230, 1843), (177, 1924, 209, 1955), (386, 1958, 419, 1989), (157, 1787, 188, 1820), (224, 1958, 256, 1989), (10, 1808, 41, 1841), (127, 1610, 157, 1643), (276, 1748, 308, 1779), (0, 1682, 32, 1713), (32, 1752, 63, 1784), (268, 1495, 299, 1528), (192, 1541, 224, 1571), (97, 1731, 128, 1763), (415, 1792, 446, 1825), (29, 1735, 60, 1768), (466, 1614, 497, 1646), (117, 1774, 149, 1805), (377, 1682, 407, 1714), (42, 1756, 75, 1787), (450, 1562, 480, 1594), (136, 1821, 169, 1852), (268, 1722, 300, 1753), (117, 1674, 149, 1705), (329, 1575, 362, 1606), (58, 1740, 89, 1773), (109, 1739, 140, 1771), (422, 1860, 454, 1891), (99, 1550, 130, 1583), (162, 1969, 195, 2000), (402, 1692, 433, 1724), (146, 1747, 179, 1778), (75, 1805, 105, 1838), (388, 1834, 419, 1867), (230, 1929, 261, 1961), (377, 1709, 407, 1742), (11, 1628, 42, 1661), (144, 1826, 175, 1859), (140, 1740, 170, 1773), (101, 1714, 131, 1747), (299, 1688, 329, 1721), (269, 1670, 300, 1703), (29, 1942, 62, 1972), (404, 1948, 435, 1981), (419, 1675, 450, 1708), (464, 1805, 497, 1836), (140, 1685, 170, 1718), (141, 1718, 172, 1750), (217, 1549, 250, 1580), (279, 1529, 312, 1560), (101, 1641, 131, 1674), (295, 1489, 328, 1519), (500, 222, 532, 253), (505, 26, 536, 58), (531, 250, 563, 281), (537, 234, 570, 265), (505, 670, 537, 701), (781, 961, 811, 994), (661, 873, 693, 904), (648, 878, 678, 911), (498, 847, 531, 878), (586, 963, 618, 994), (613, 948, 644, 981), (729, 505, 760, 537), (531, 972, 562, 1005), (709, 914, 740, 946), (753, 959, 786, 990), (584, 972, 617, 1003), (604, 925, 635, 958), (570, 646, 600, 679), (674, 916, 706, 946), (604, 638, 635, 670), (790, 800, 821, 833), (545, 976, 578, 1006), (794, 968, 824, 1000), (719, 903, 751, 933), (691, 554, 722, 586), (672, 873, 704, 904), (514, 599, 545, 631), (497, 674, 529, 705), (751, 550, 784, 581), (610, 976, 643, 1006), (514, 976, 545, 1008), (549, 898, 581, 929), (738, 924, 769, 956), (776, 1180, 807, 1213), (747, 1292, 777, 1325), (579, 1166, 610, 1198), (565, 1393, 596, 1425), (540, 1326, 571, 1359), (639, 1058, 672, 1089), (674, 1377, 704, 1409), (498, 1179, 531, 1209), (685, 1429, 717, 1459), (576, 1430, 607, 1463), (575, 1453, 605, 1485), (644, 1433, 677, 1464), (670, 1398, 703, 1429), (704, 1174, 735, 1206), (721, 1136, 751, 1169), (527, 1445, 560, 1476), (755, 1265, 786, 1297), (497, 1021, 529, 1052), (646, 1006, 677, 1039), (661, 1203, 691, 1235), (578, 1347, 610, 1378), (768, 1157, 798, 1190), (771, 1338, 802, 1370), (505, 1227, 536, 1260), (622, 1180, 654, 1211), (636, 1282, 669, 1313), (725, 1373, 756, 1406), (578, 1003, 610, 1034), (651, 1307, 683, 1338), (516, 1083, 549, 1114), (786, 1154, 816, 1187), (518, 1234, 550, 1265), (701, 1383, 734, 1414), (768, 1123, 800, 1154), (563, 1044, 594, 1076), (688, 1157, 721, 1188), (506, 1295, 539, 1326), (701, 1088, 734, 1119), (665, 1174, 696, 1206), (506, 1308, 539, 1339), (859, 1073, 889, 1106), (687, 1286, 719, 1317), (566, 1019, 597, 1052), (659, 1346, 690, 1378), (807, 1148, 839, 1179), (534, 1256, 566, 1287), (605, 1430, 636, 1463), (652, 1140, 685, 1170), (802, 1180, 833, 1213), (844, 1252, 876, 1282), (540, 1369, 571, 1401), (597, 1162, 630, 1193), (553, 1331, 584, 1364), (797, 1218, 829, 1248), (688, 1091, 721, 1122), (510, 1273, 540, 1305), (717, 1463, 750, 1494), (571, 1065, 602, 1097), (597, 1458, 630, 1489), (701, 1052, 732, 1084), (682, 1308, 714, 1339), (661, 1378, 691, 1411), (576, 1466, 609, 1497), (708, 1036, 740, 1067), (699, 1286, 730, 1318), (635, 1419, 665, 1451), (727, 1317, 760, 1347), (721, 1670, 753, 1701), (901, 1719, 933, 1750), (941, 1765, 974, 1795), (953, 1765, 985, 1795), (722, 1821, 755, 1852), (732, 1894, 764, 1925), (690, 1753, 721, 1786), (738, 1740, 771, 1771), (693, 1773, 725, 1804), (888, 1870, 920, 1901), (709, 1506, 742, 1537), (674, 1695, 704, 1727), (657, 1911, 690, 1942), (557, 1739, 589, 1769), (747, 1929, 779, 1959), (589, 1878, 622, 1909), (604, 1661, 635, 1693), (854, 1846, 886, 1877), (529, 1808, 560, 1841), (518, 1763, 549, 1795), (575, 1817, 605, 1849), (615, 1490, 646, 1523), (524, 1492, 557, 1523), (532, 1756, 565, 1787), (714, 1795, 747, 1826), (652, 1510, 683, 1542), (742, 1792, 773, 1825), (704, 1597, 737, 1628), (678, 1817, 709, 1849), (519, 1795, 552, 1826), (946, 1700, 979, 1731), (859, 1795, 889, 1828), (717, 1679, 748, 1711), (514, 1597, 545, 1630), (638, 1765, 670, 1795), (974, 1851, 1006, 1881), (972, 1750, 1003, 1782), (923, 1662, 954, 1695), (665, 1683, 696, 1716), (592, 1698, 625, 1729), (607, 1606, 639, 1636), (885, 1765, 917, 1795), (683, 1787, 716, 1818), (586, 1776, 617, 1808), (607, 1638, 639, 1669), (553, 1510, 584, 1542), (920, 1726, 953, 1756), (540, 1763, 571, 1795), (948, 1755, 979, 1787), (927, 1862, 958, 1894), (631, 1773, 664, 1804), (881, 1916, 914, 1946), (857, 1916, 889, 1946), (497, 1898, 527, 1930), (665, 1865, 696, 1898), (505, 1875, 536, 1907), (662, 1675, 695, 1706), (506, 1885, 539, 1916), (501, 1818, 534, 1849), (956, 1696, 987, 1729), (644, 1769, 677, 1800), (646, 1760, 678, 1791), (626, 1747, 659, 1778), (513, 1490, 544, 1523), (786, 1901, 816, 1933), (677, 1873, 708, 1906), (842, 1930, 873, 1963), (961, 1683, 993, 1714), (1328, 857, 1358, 890), (1443, 1765, 1475, 1795), (1121, 1877, 1154, 1907), (996, 1812, 1029, 1843), (1032, 1843, 1065, 1873), (1003, 1823, 1035, 1854), (166, 442, 196, 472), (174, 445, 204, 476), (114, 446, 144, 477), (127, 429, 157, 459), (88, 302, 118, 333), (140, 442, 170, 472), (367, 390, 398, 420), (466, 821, 497, 852), (234, 750, 265, 781), (159, 781, 190, 812), (256, 898, 287, 929), (29, 924, 60, 955), (402, 768, 433, 799), (286, 821, 316, 852), (11, 498, 42, 529), (122, 513, 153, 544), (463, 635, 493, 666), (432, 687, 463, 718), (118, 933, 149, 964), (252, 843, 282, 873), (243, 1424, 274, 1455), (281, 1468, 312, 1498), (346, 1403, 377, 1433), (303, 1372, 334, 1403), (407, 1050, 438, 1081), (284, 1362, 315, 1393), (166, 1151, 196, 1182), (2, 1071, 32, 1102), (432, 1148, 463, 1179), (97, 1153, 128, 1183), (427, 998, 458, 1029), (96, 998, 127, 1029), (2, 1097, 32, 1128), (169, 1463, 200, 1494), (299, 1011, 329, 1042), (370, 1120, 401, 1151), (336, 1429, 367, 1459), (156, 1115, 187, 1146), (329, 1234, 360, 1265), (329, 1218, 360, 1248), (140, 1416, 170, 1446), (450, 1136, 480, 1167), (312, 1364, 342, 1394), (86, 1028, 117, 1058), (230, 1407, 261, 1438), (118, 1560, 149, 1591), (109, 1727, 140, 1758), (445, 1718, 476, 1748), (45, 1562, 76, 1593), (386, 1502, 417, 1532), (364, 1674, 394, 1705), (269, 1955, 300, 1985), (36, 1821, 67, 1852), (114, 1644, 144, 1675), (135, 1847, 166, 1878), (208, 1601, 239, 1631), (34, 1554, 65, 1584), (187, 1523, 217, 1554), (467, 1722, 498, 1753), (352, 1489, 383, 1519), (428, 1532, 459, 1563), (261, 1631, 292, 1662), (39, 1734, 70, 1765), (428, 1869, 459, 1899), (454, 1894, 485, 1925), (440, 1518, 471, 1549), (187, 1644, 217, 1675), (2, 1722, 32, 1753), (480, 1852, 511, 1883), (558, 646, 589, 677), (794, 778, 824, 808), (518, 898, 549, 929), (680, 506, 711, 537), (643, 898, 674, 929), (729, 898, 760, 929), (641, 929, 672, 959), (872, 683, 902, 714), (678, 523, 709, 554), (583, 653, 613, 683), (579, 661, 610, 692), (703, 924, 734, 955), (764, 894, 795, 925), (656, 1010, 687, 1041), (584, 1209, 615, 1240), (674, 1433, 704, 1464), (555, 1179, 586, 1209), (578, 1445, 609, 1476), (716, 1006, 747, 1037), (628, 1373, 659, 1404), (876, 1179, 907, 1209), (833, 1248, 863, 1279), (837, 1235, 868, 1266), (518, 1045, 549, 1076), (497, 1386, 527, 1417), (596, 1071, 626, 1102), (545, 1018, 576, 1049), (596, 1886, 626, 1917), (910, 1721, 941, 1752), (923, 1735, 954, 1766), (613, 1644, 644, 1675), (706, 1635, 737, 1666), (625, 1911, 656, 1942), (847, 1818, 878, 1849), (557, 1726, 588, 1756), (889, 1756, 920, 1787), (536, 1778, 566, 1808), (875, 1765, 906, 1795), (562, 1649, 592, 1680), (613, 1614, 644, 1644), (635, 1510, 665, 1541), (588, 1619, 618, 1649), (862, 1823, 893, 1854), (872, 1752, 902, 1782), (669, 1549, 699, 1580), (1147, 1505, 1178, 1536), (1013, 1670, 1044, 1701), (1151, 1515, 1182, 1545), (398, 929, 427, 961), (761, 1740, 794, 1769), (0, 688, 28, 722), (484, 644, 511, 675)
inflammatory: (618, 1497, 651, 1531), (463, 1115, 493, 1148), (180, 1575, 211, 1607)
lymphocyte: (428, 453, 463, 485), (260, 1052, 294, 1084), (427, 1667, 459, 1701), (333, 1667, 367, 1700), (131, 1615, 166, 1648), (730, 865, 763, 899), (690, 1235, 722, 1269), (834, 1781, 867, 1815), (625, 1641, 657, 1675), (894, 1843, 927, 1877), (342, 359, 375, 391), (39, 141, 71, 174), (240, 547, 273, 580), (372, 550, 404, 583), (49, 951, 81, 984), (477, 766, 510, 799), (385, 662, 417, 695), (364, 1341, 396, 1373), (399, 1347, 432, 1380), (245, 1067, 278, 1099), (474, 1128, 506, 1161), (16, 1305, 49, 1338), (412, 1781, 445, 1813), (157, 1859, 190, 1891), (263, 1807, 295, 1839), (175, 1558, 208, 1591), (54, 1758, 86, 1791), (49, 1693, 81, 1726), (391, 1787, 424, 1820), (321, 1679, 354, 1711), (268, 1705, 300, 1737), (250, 1903, 282, 1935), (472, 1768, 505, 1800), (253, 1771, 286, 1804), (605, 602, 638, 635), (519, 721, 552, 753), (756, 805, 789, 838), (529, 638, 562, 670), (690, 789, 722, 821), (743, 765, 776, 797), (967, 833, 1000, 865), (735, 797, 768, 830), (610, 961, 643, 994), (706, 511, 738, 544), (776, 1369, 808, 1401), (677, 1333, 709, 1365), (907, 1291, 940, 1323), (776, 1162, 808, 1195), (571, 1497, 604, 1529), (711, 1836, 743, 1869), (881, 1834, 914, 1867), (885, 1797, 917, 1830), (933, 1675, 966, 1708), (868, 1968, 901, 2000), (709, 1683, 742, 1716), (748, 1968, 781, 2000), (652, 1956, 685, 1989), (1253, 1464, 1285, 1497), (1099, 1383, 1131, 1416), (1246, 1308, 1279, 1341), (1130, 1297, 1162, 1330), (1219, 1589, 1251, 1622), (1060, 1683, 1092, 1716), (1045, 1544, 1078, 1576), (1214, 1580, 1246, 1612), (305, 756, 339, 787), (464, 1029, 495, 1063), (717, 865, 751, 896), (867, 1834, 897, 1869), (562, 1792, 592, 1826), (144, 417, 175, 450), (193, 430, 224, 463), (256, 253, 289, 284), (175, 381, 208, 412), (115, 122, 148, 153), (394, 208, 425, 240), (154, 838, 187, 869), (266, 755, 299, 786), (360, 565, 391, 597), (185, 830, 216, 862), (438, 654, 471, 685), (135, 602, 166, 635), (128, 817, 161, 847), (433, 1297, 464, 1330), (377, 1352, 407, 1385), (101, 1041, 133, 1071), (463, 1343, 493, 1375), (164, 1231, 196, 1261), (476, 1097, 506, 1130), (428, 1008, 459, 1041), (428, 1019, 461, 1050), (401, 1795, 432, 1828), (437, 1604, 467, 1636), (346, 1503, 377, 1536), (96, 1705, 127, 1737), (360, 1549, 393, 1580), (23, 1765, 54, 1797), (321, 1692, 354, 1722), (80, 1781, 110, 1813), (406, 1778, 438, 1808), (437, 1619, 467, 1651), (195, 1653, 227, 1683), (84, 1968, 115, 2000), (544, 946, 575, 979), (602, 622, 635, 653), (498, 614, 531, 644), (693, 807, 725, 838), (625, 924, 657, 955), (716, 820, 748, 851), (523, 782, 553, 815), (945, 732, 975, 765), (716, 972, 747, 1005), (829, 1399, 862, 1430), (662, 992, 693, 1024), (776, 1378, 807, 1411), (566, 1471, 597, 1503), (540, 994, 571, 1026), (665, 1273, 698, 1304), (833, 1015, 863, 1047), (639, 1463, 670, 1495), (657, 1472, 690, 1503), (846, 1430, 876, 1463), (669, 1338, 699, 1370), (909, 1843, 941, 1873), (612, 1870, 644, 1901), (597, 1498, 630, 1529), (716, 1826, 747, 1859), (753, 1619, 784, 1651), (876, 1846, 907, 1878), (786, 1505, 816, 1537), (834, 1937, 867, 1968), (906, 1820, 936, 1852), (581, 1846, 612, 1878), (854, 1808, 886, 1839), (1357, 1424, 1389, 1455), (1235, 1451, 1266, 1484), (1108, 1377, 1141, 1407), (1264, 1398, 1297, 1429), (1087, 1328, 1118, 1360), (1104, 1703, 1134, 1735), (1060, 1890, 1091, 1922), (998, 1649, 1031, 1680), (183, 394, 214, 425), (260, 407, 291, 438), (292, 752, 323, 782), (299, 761, 329, 792), (367, 558, 398, 589), (393, 649, 424, 680), (385, 1109, 415, 1140), (394, 1084, 425, 1115), (303, 1472, 334, 1503), (247, 1799, 278, 1830), (109, 1760, 140, 1791), (109, 1776, 140, 1807), (97, 1787, 128, 1818), (748, 864, 779, 894), (652, 1399, 683, 1430), (613, 1472, 644, 1503), (790, 1347, 821, 1378), (962, 1312, 993, 1343), (704, 1675, 735, 1706), (591, 1609, 622, 1640), (557, 1489, 588, 1519), (1242, 1437, 1272, 1468), (497, 1196, 526, 1229), (497, 1506, 526, 1539)
